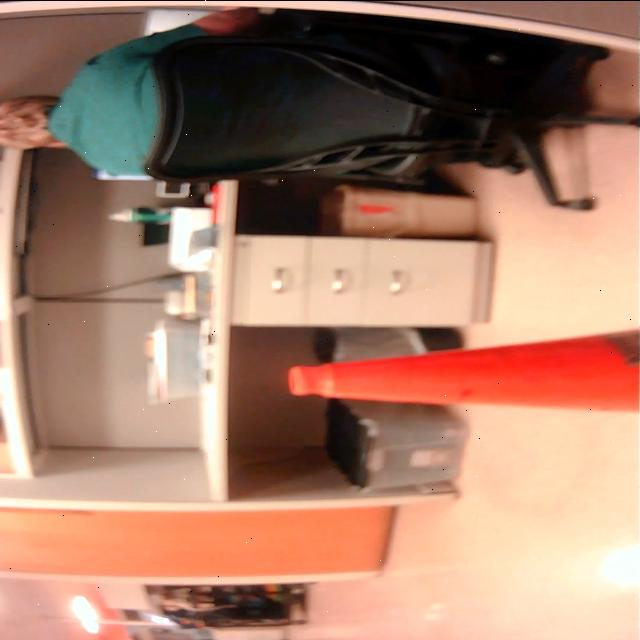traffic cone: (289, 320, 640, 416)
